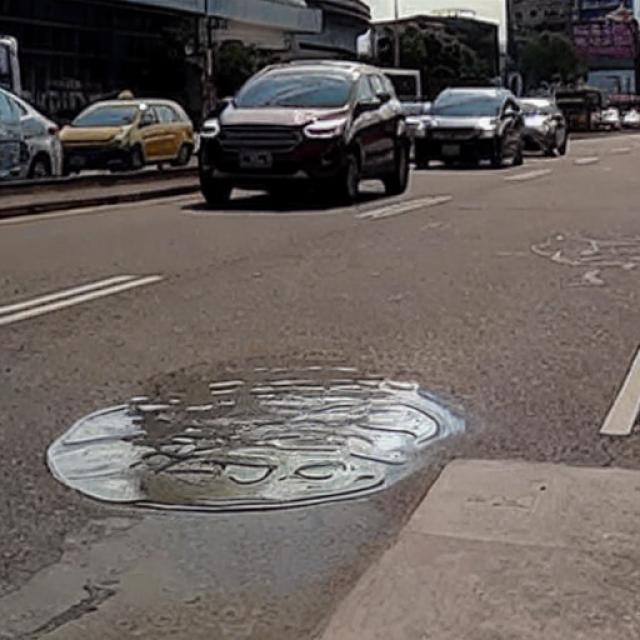puddle: (45, 381, 447, 512)
